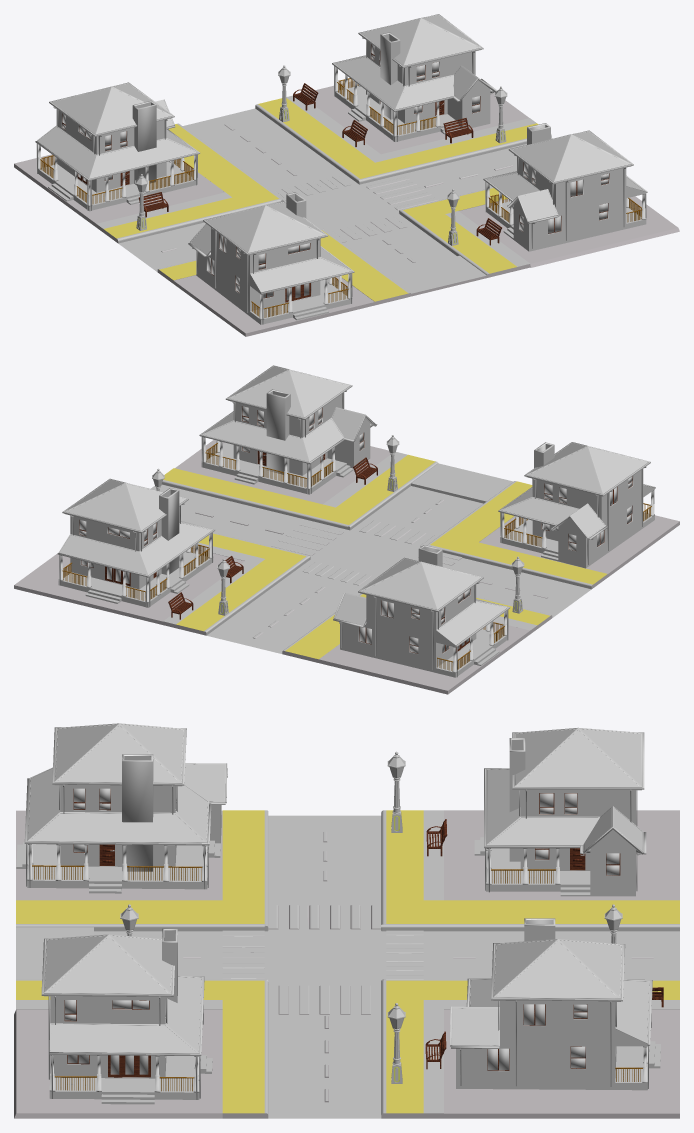
The model's file is House.fbx.
The picture shows the model from 3 angles, top to bottom: view 1: azimuth 30°, elevation 25°; view 2: azimuth 150°, elevation 25°; view 3: azimuth 270°, elevation 25°; orthographic projection. The views are drawn at different scales.
Parts seen in each view (by area): view 1: Dasar, House1, House4, House2, House3; view 2: Dasar, House3, House1, House4, House2; view 3: Dasar, House2, House4, House3, House1, LampuTaman.002, LampuTaman.003.
Boxes of the visible parts, left/top/right/bottom form: Dasar: left=14, top=81, right=679, bottom=336; House1: left=35, top=82, right=200, bottom=211; House4: left=332, top=14, right=497, bottom=141; House2: left=188, top=192, right=354, bottom=324; House3: left=483, top=123, right=647, bottom=251; Dasar: left=14, top=440, right=679, bottom=694; House3: left=199, top=365, right=377, bottom=494; House1: left=333, top=545, right=510, bottom=677; House4: left=57, top=478, right=215, bottom=607; House2: left=498, top=442, right=655, bottom=568; Dasar: left=14, top=810, right=679, bottom=1118; House2: left=16, top=723, right=227, bottom=893; House4: left=450, top=918, right=660, bottom=1090; House3: left=41, top=928, right=212, bottom=1104; House1: left=474, top=727, right=646, bottom=896; LampuTaman.002: left=387, top=751, right=405, bottom=832; LampuTaman.003: left=387, top=1003, right=405, bottom=1083.
Size of the model in its own units: 15201 by 3096 by 14115.
